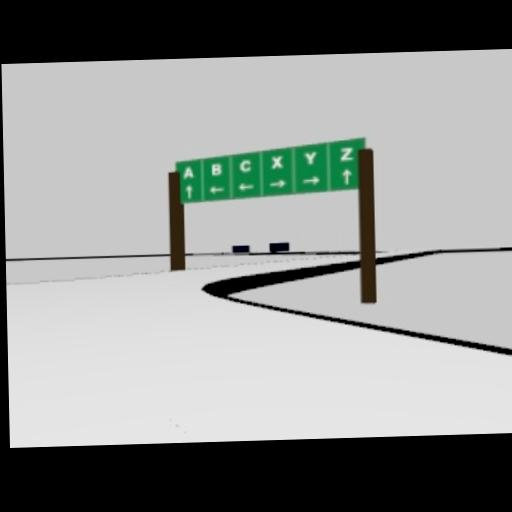A: (182, 166, 194, 179)
B: (210, 163, 222, 174)
C: (239, 159, 250, 173)
Right: (301, 175, 319, 185), (268, 179, 286, 187), (238, 182, 254, 190), (209, 186, 223, 192)
Straight: (341, 167, 351, 185), (185, 184, 194, 199)
X: (271, 155, 282, 169)
Y: (303, 150, 316, 164)
Z: (339, 146, 352, 160)
